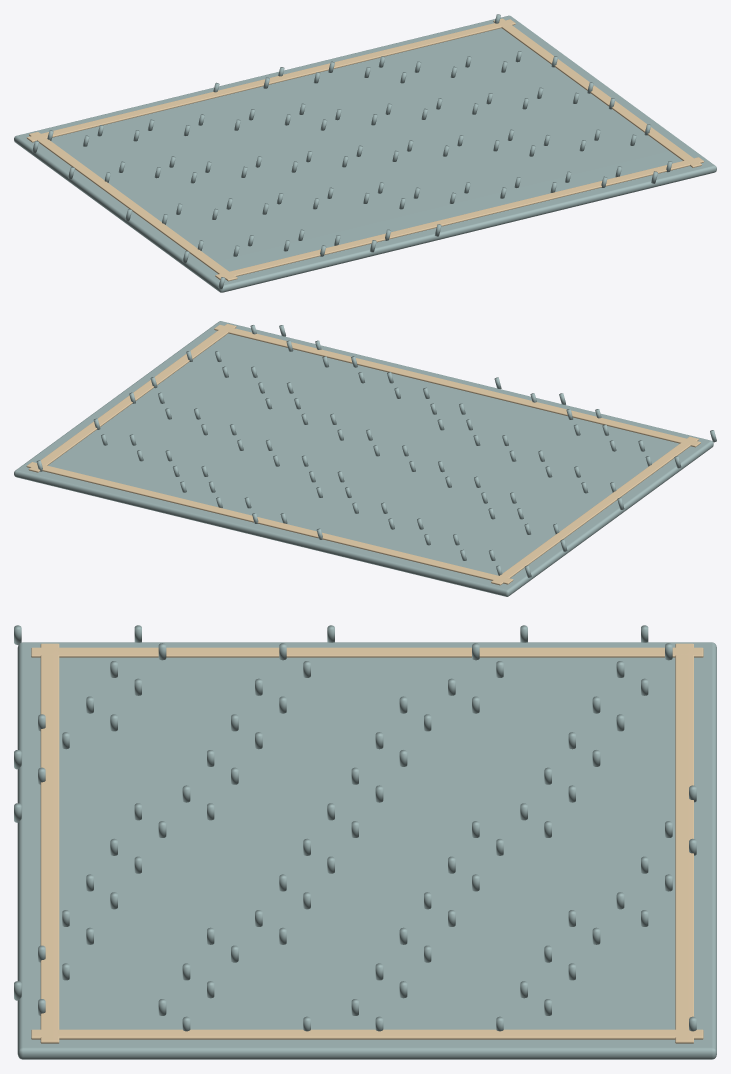
The model's file is atelier-shag-rug.glb.
3 views of the same model, one above another, from view 1: azimuth 30°, elevation 25°; view 2: azimuth 150°, elevation 25°; view 3: azimuth 270°, elevation 25° (orthographic). The views are drawn at different scales.
Parts seen in each view (by area): view 1: fabric.075, accent.025; view 2: fabric.075, accent.025; view 3: fabric.075, accent.025.
Boxes of the visible parts, x1=… form: fabric.075: x1=14, y1=14, x2=716, y2=292; accent.025: x1=27, y1=18, x2=704, y2=281; fabric.075: x1=14, y1=321, x2=716, y2=596; accent.025: x1=26, y1=324, x2=700, y2=585; fabric.075: x1=14, y1=625, x2=716, y2=1059; accent.025: x1=31, y1=643, x2=703, y2=1043.
Bounding box in the file's own units: 1.81 × 0.0569 × 1.31.
